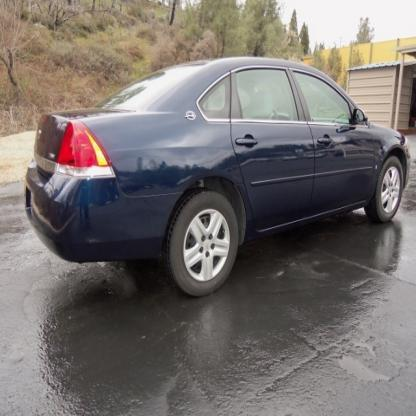Vehicle: (23, 56, 412, 301)
